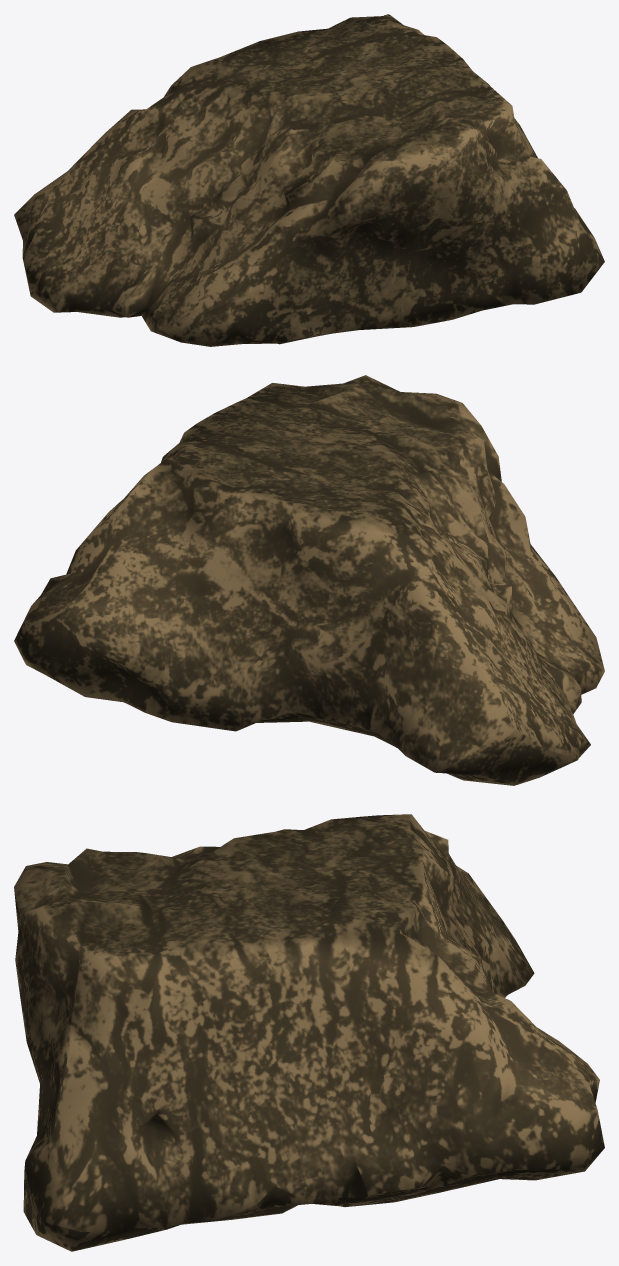
Rendered from mm8_deco_rock52.glb.
The picture shows the model from 3 angles, top to bottom: view 1: azimuth 30°, elevation 25°; view 2: azimuth 150°, elevation 25°; view 3: azimuth 270°, elevation 25°; orthographic projection. The views are drawn at different scales.
Visible parts, largest first — view 1: Rock52; view 2: Rock52; view 3: Rock52.
Part boxes in pixels (x1,y1,x2,y2): Rock52: (14,14,604,346); Rock52: (14,375,604,785); Rock52: (14,814,604,1251).
Size of the model in its own units: 1.37 by 0.6029 by 1.13.
Materials: 1 (1 with a texture image).
